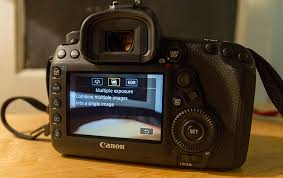camera: (52, 39, 251, 169)
